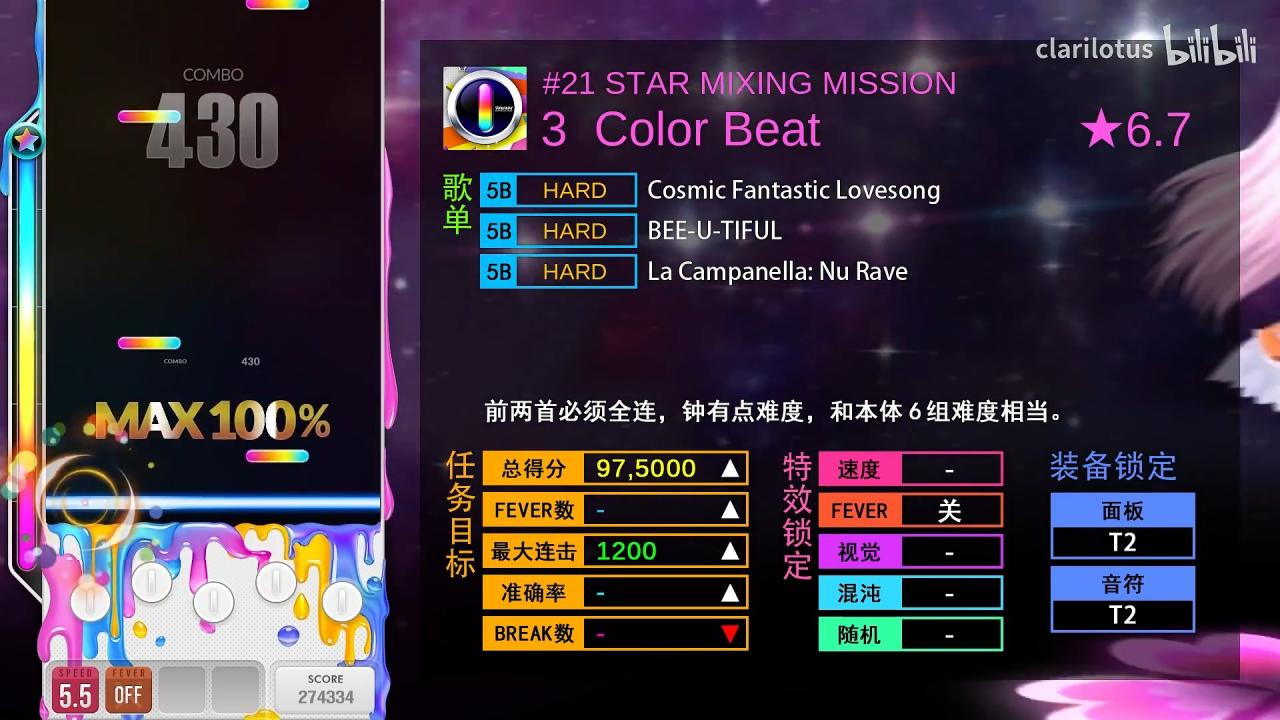note: (118, 336, 182, 351), (118, 109, 181, 124), (246, 450, 309, 464), (245, 0, 309, 10)
